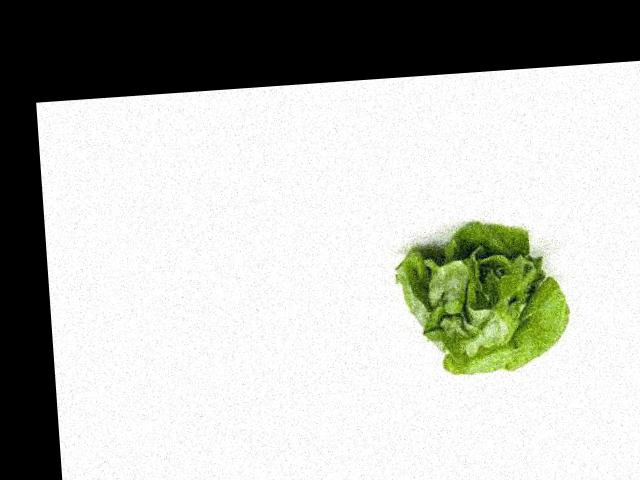lettuce: (366, 208, 519, 371)
